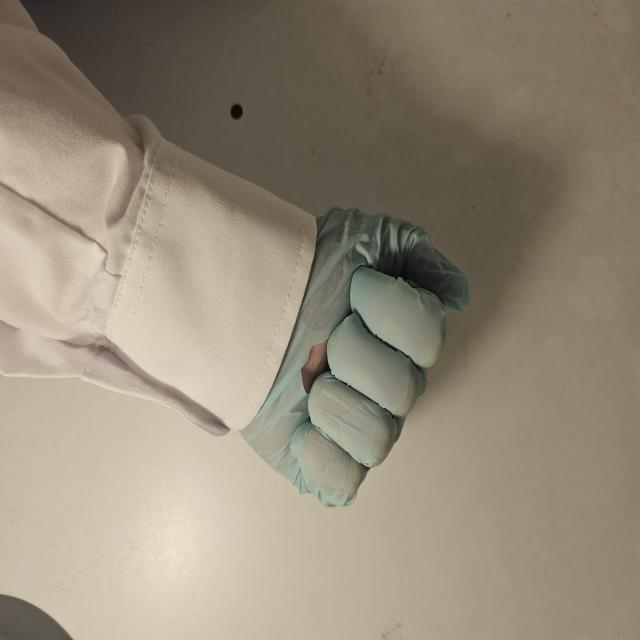gloves_damaged: (241, 204, 469, 515)
